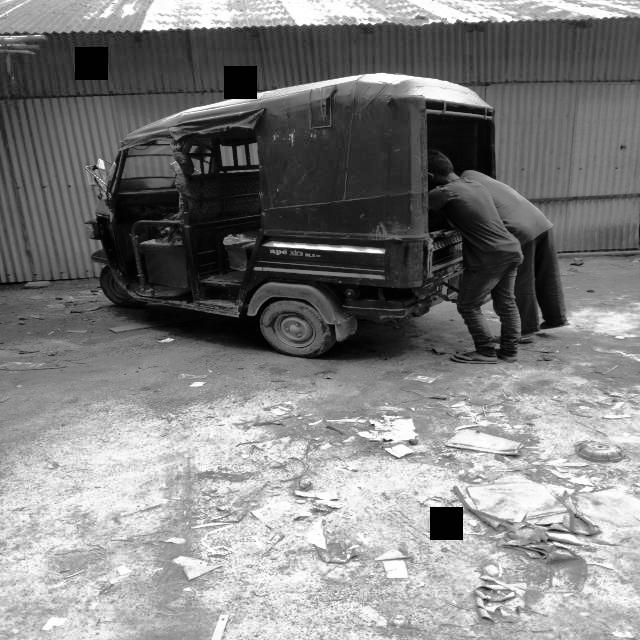Auto-Rickshaw: (81, 72, 540, 368)
